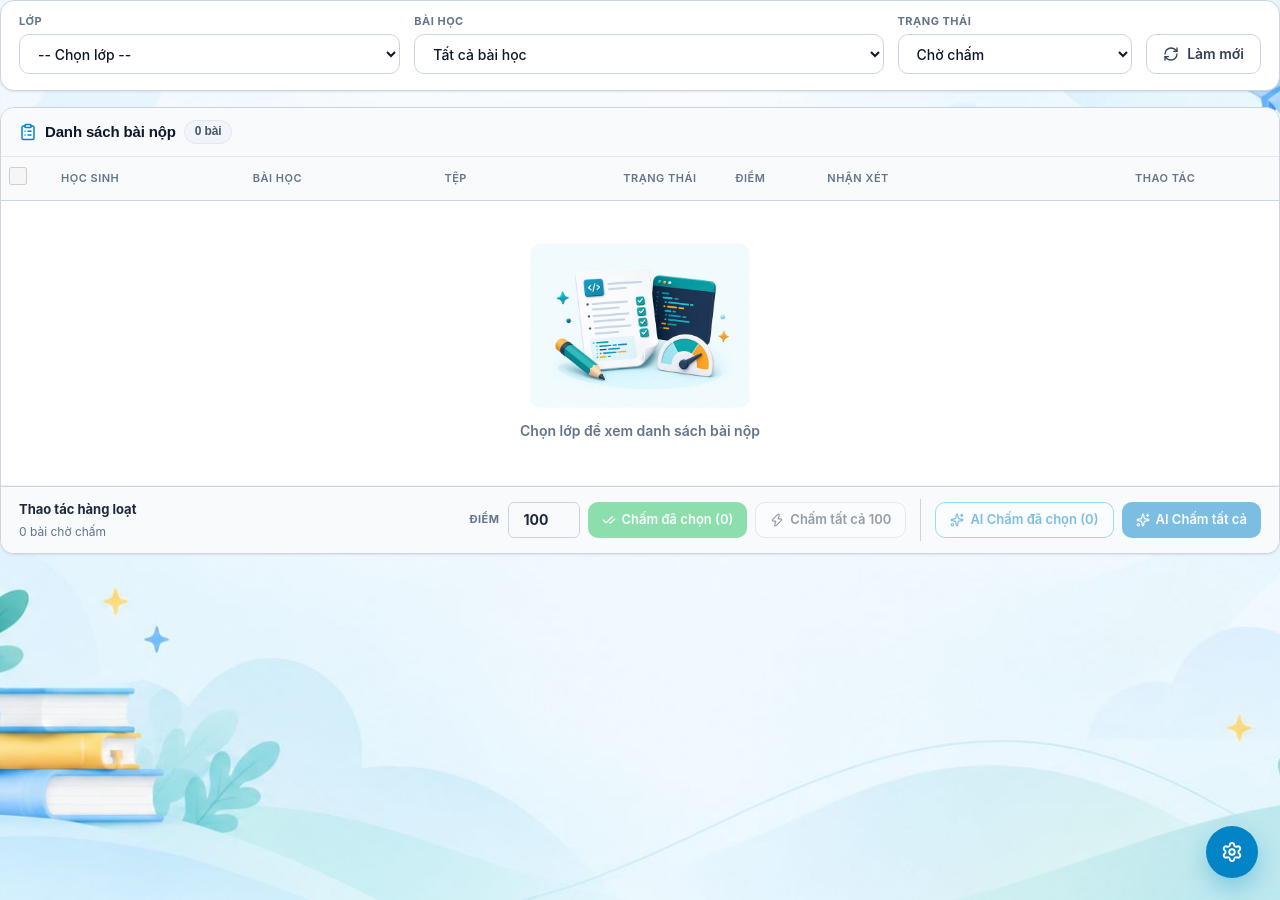
Test: React homework page parity › manual mark preserves the filter and sends the edited draft
Select "Lớp đang học" in the dropdown labelled "Lớp" at (210, 54), box [19, 34, 400, 74]
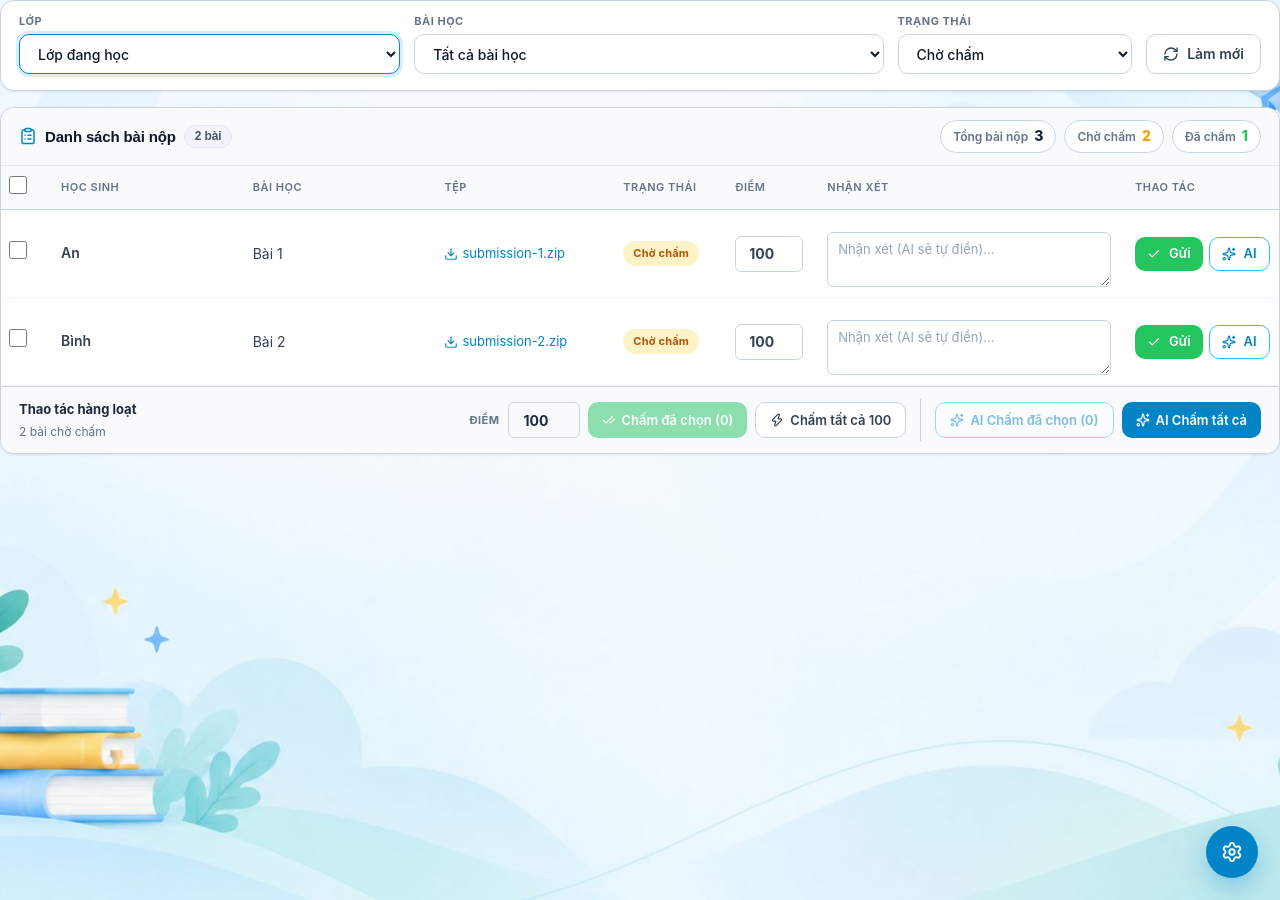
Expected: the cell "An" is shown, [49, 210, 241, 298]
Replace the text in the number field named "Điểm của An" with "88" at (769, 254), box [735, 236, 803, 272]
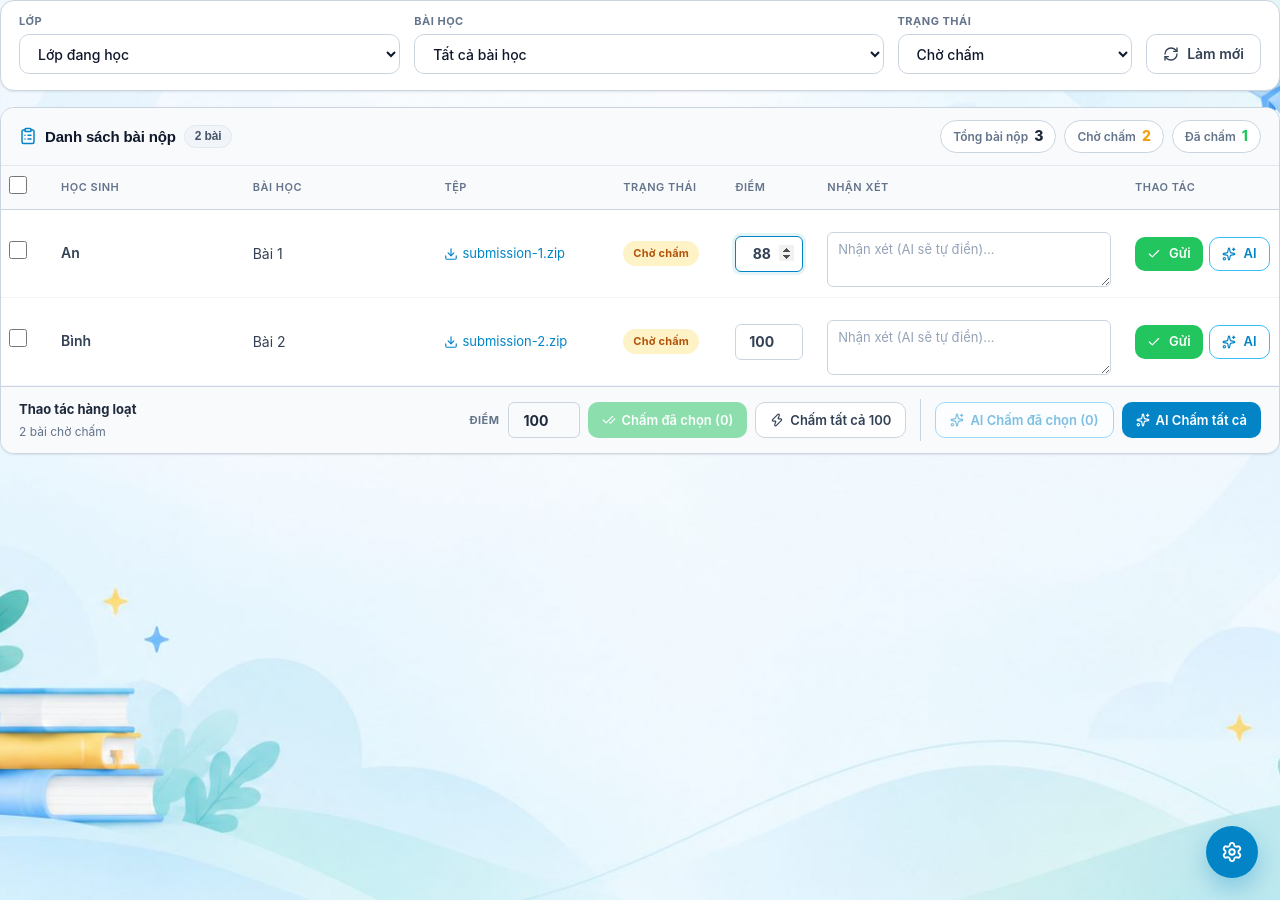
Type "Làm tốt" into the text box named "Nhận xét cho An" at (969, 260), box [827, 232, 1111, 287]
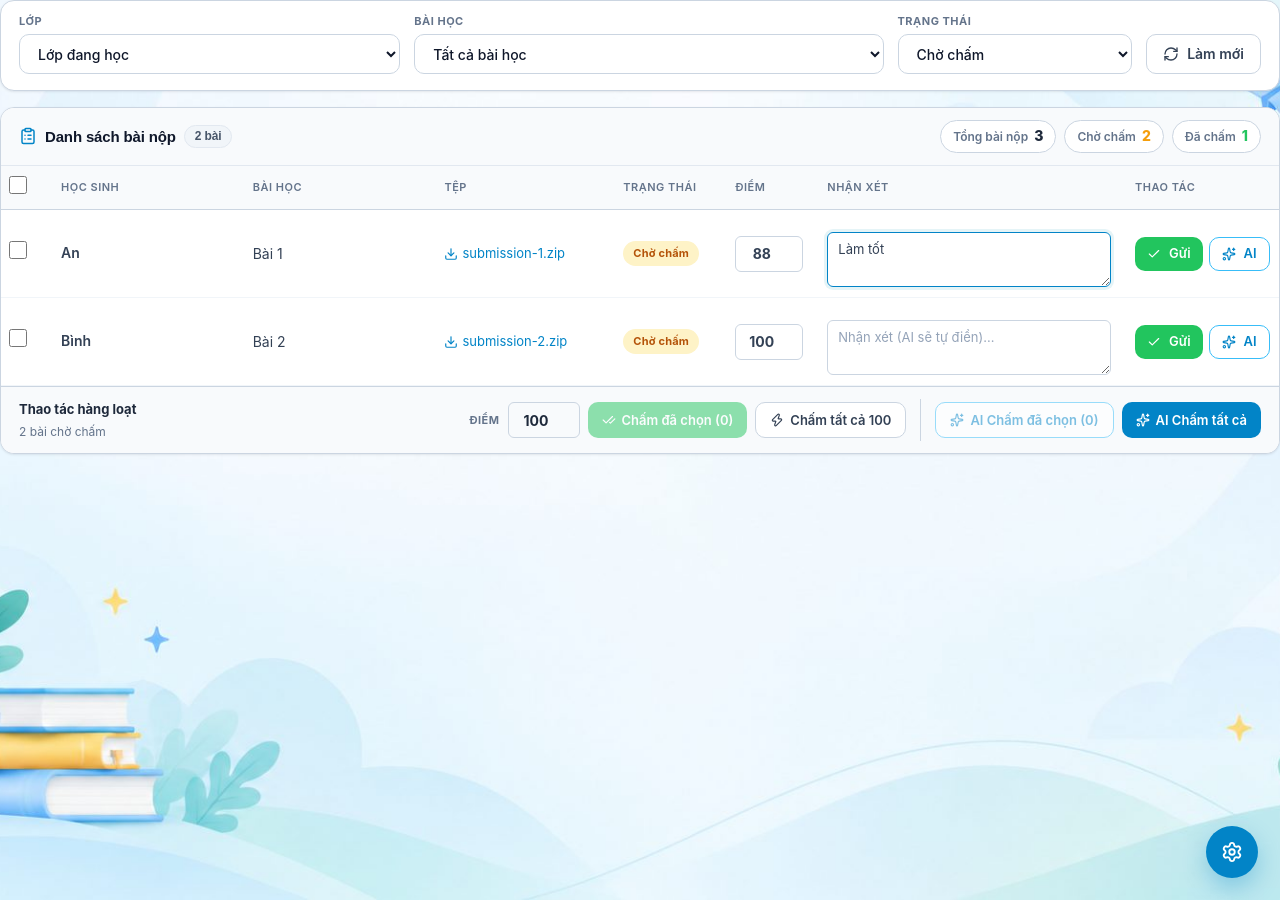
Click the button "Gửi" in the row of "Bài 1" at (1169, 254), box [1135, 237, 1202, 271]
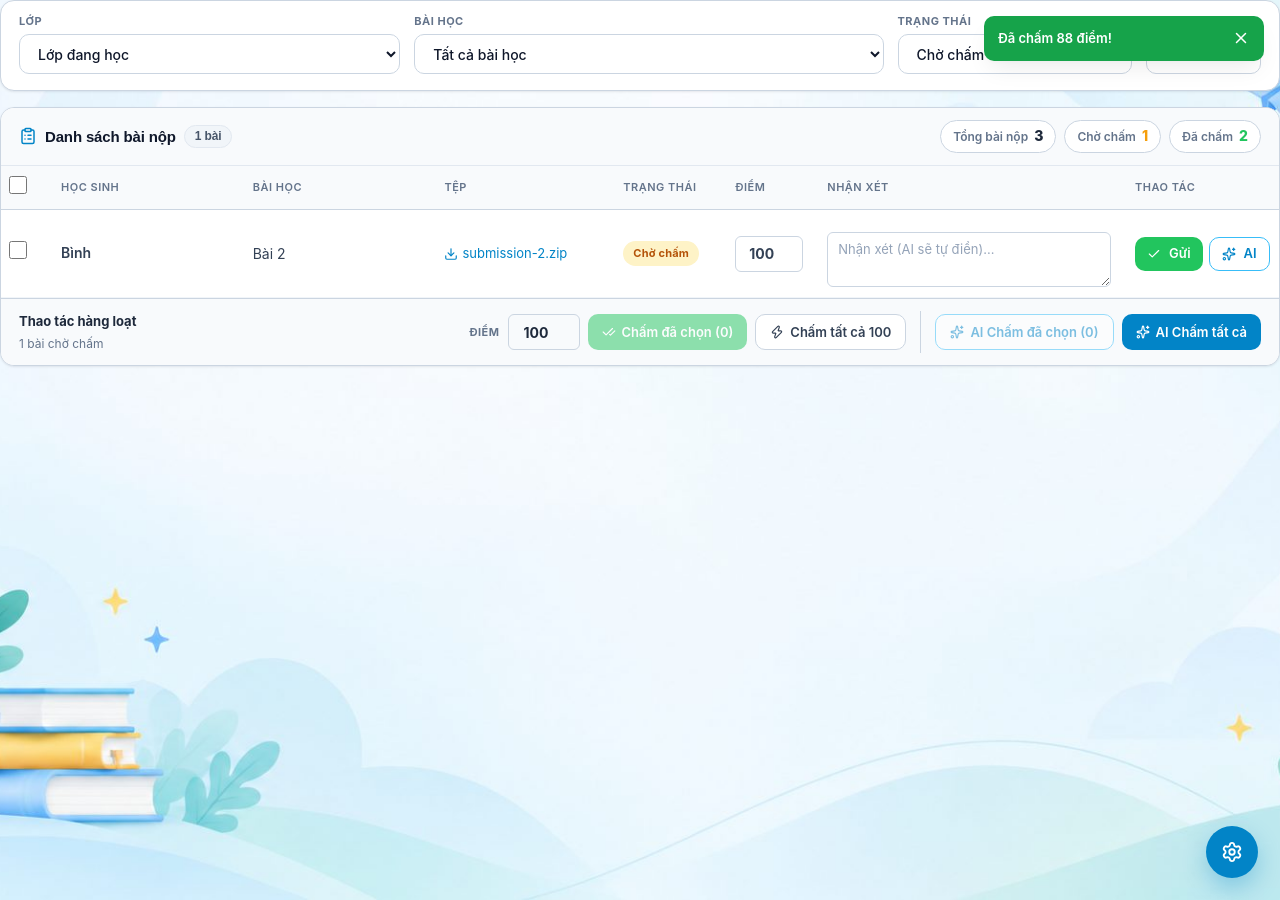
Expected: the dropdown labelled "Trạng thái" shows "Chờ chấm", [898, 34, 1132, 74]
Now the text "Đã chấm 88 điểm!" is shown, box [998, 28, 1112, 49]
